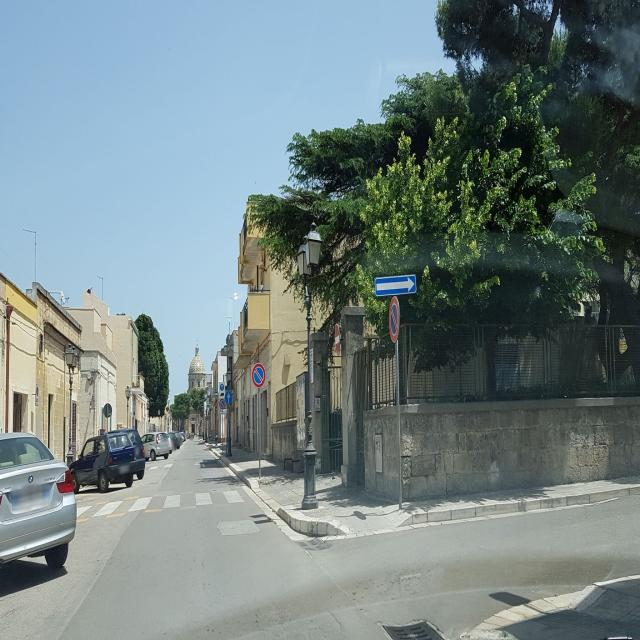forb_stopping: (389, 296, 399, 344), (251, 363, 266, 388), (219, 399, 225, 410)
